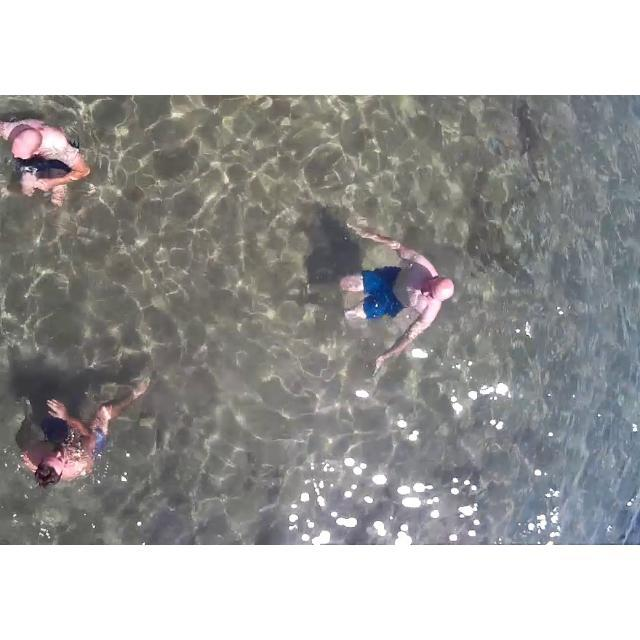human: (327, 200, 452, 392), (1, 370, 161, 485), (1, 102, 93, 215)
